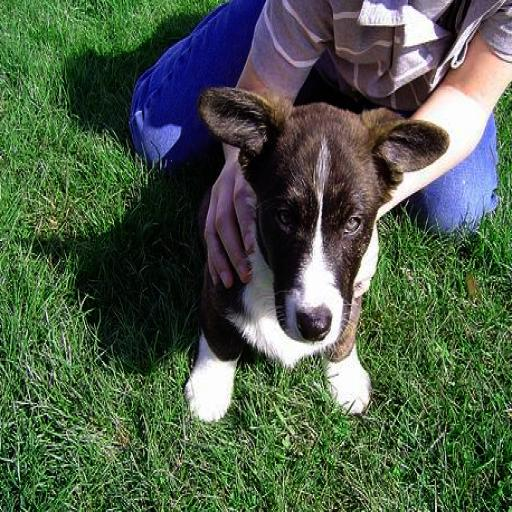dog_face: (206, 76, 438, 338)
